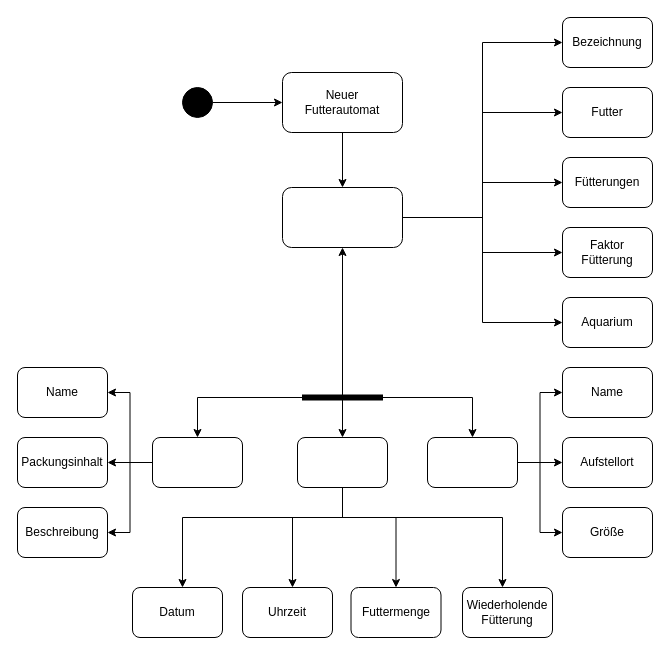
This 670x655 diagram has some shape labels left out. Each missing label, with the box of its shape:
Futterautomat anpassen: (282, 186, 402, 248)
Neue Fütterung: (296, 436, 388, 488)
Neues Aquarium: (426, 436, 518, 488)
Neues Futter: (152, 436, 242, 488)
